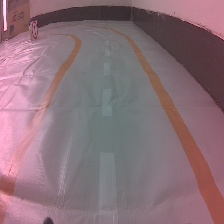limit: (29, 19, 39, 41)
